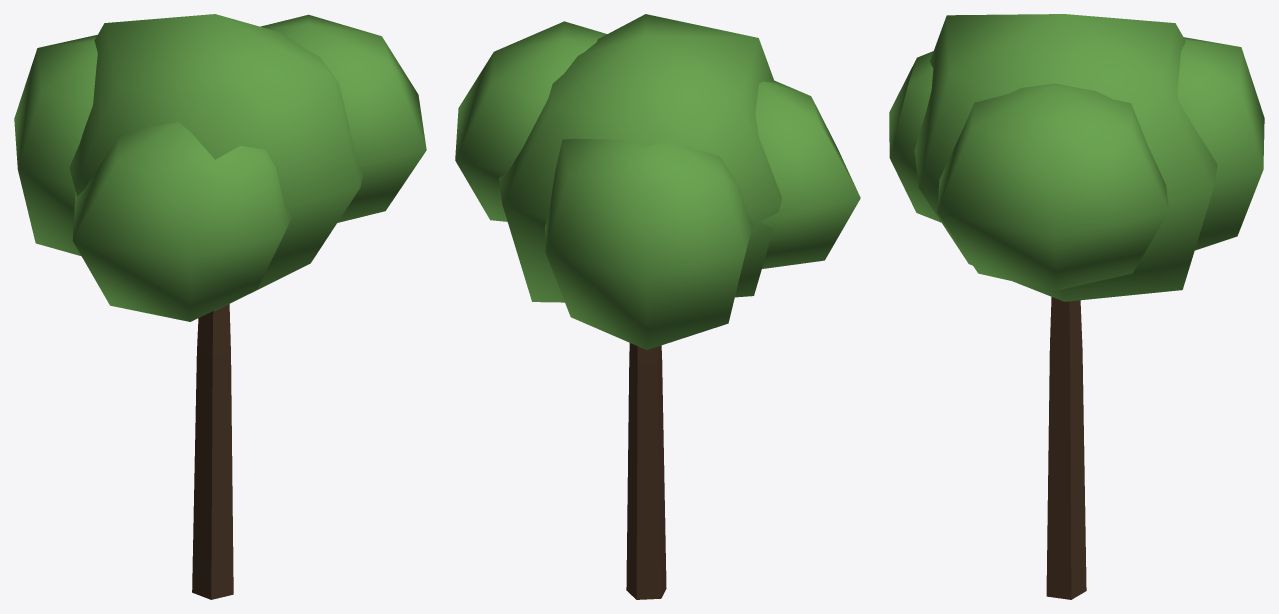
3 renders of one model, left to right at view 1: azimuth 30°, elevation 25°; view 2: azimuth 150°, elevation 25°; view 3: azimuth 270°, elevation 25°, orthographic. The views are drawn at different scales.
Visible parts, largest first — view 1: 树_02; view 2: 树_02; view 3: 树_02.
Part boxes in pixels (box(x1,y1,x2,y2)): 树_02: box(14, 14, 426, 599); 树_02: box(455, 14, 860, 599); 树_02: box(889, 14, 1264, 599).
Bounding box in the file's own units: 4.57 × 6.6 × 3.88.
